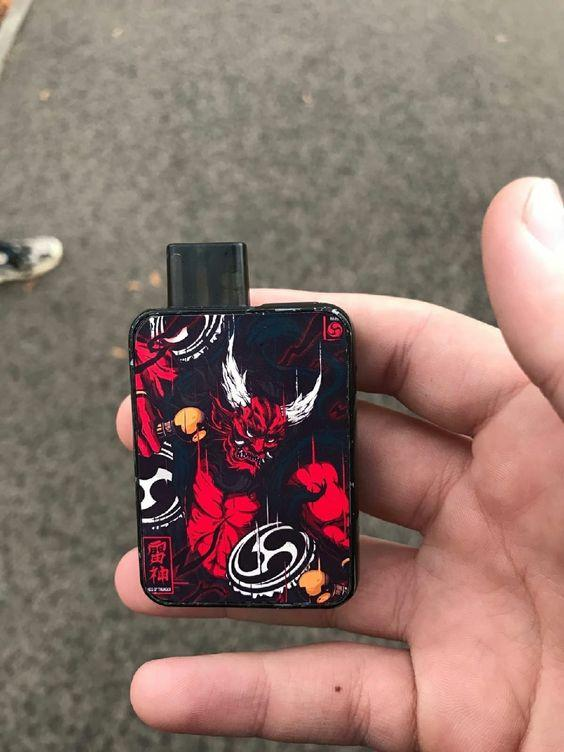Vape: (129, 243, 356, 609)
